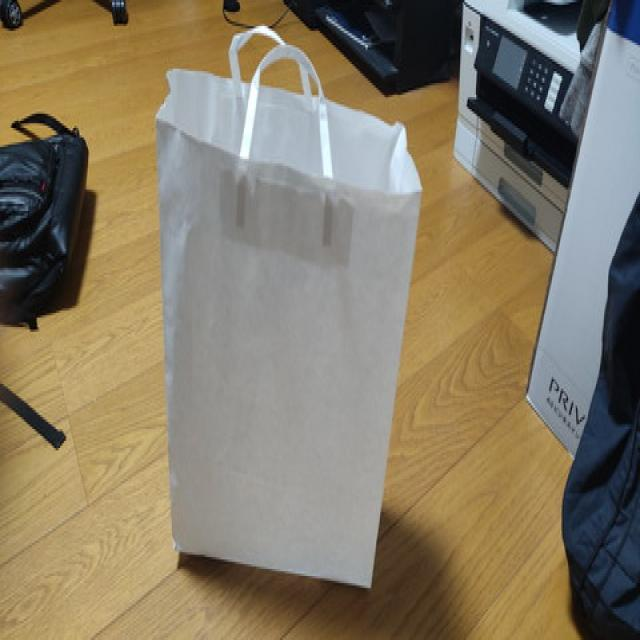paper bag: (156, 22, 426, 596)
